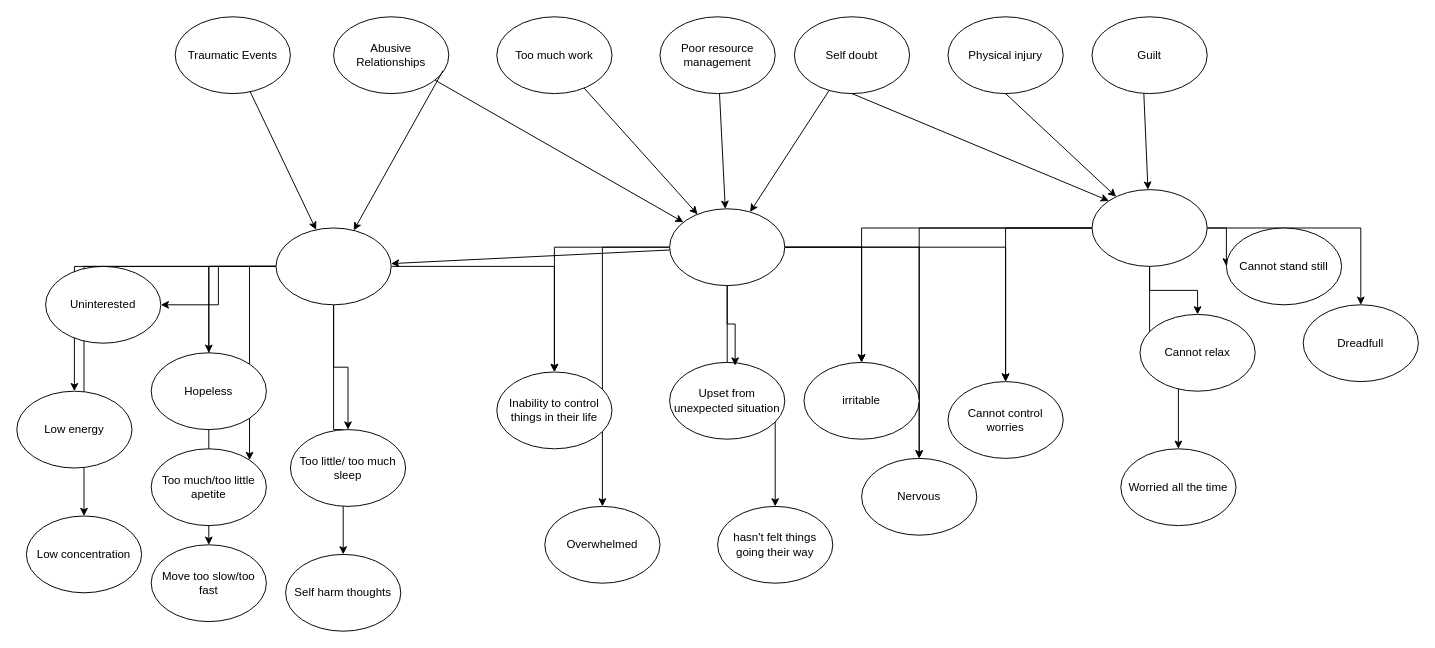
Some shapes in this 1435 by 648 pixel diagram are drawn without their labels. Each missing label, with the centre of its shape:
Anxiety: the point at 1149,227
Depression: the point at 333,266
Stress: the point at 727,247
